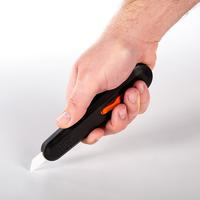knife: (20, 48, 159, 181)
